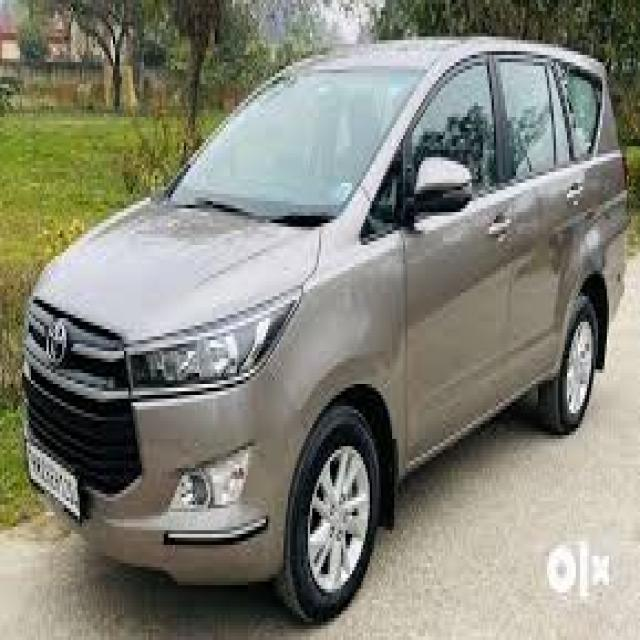light_vehicle: (22, 37, 629, 626)
